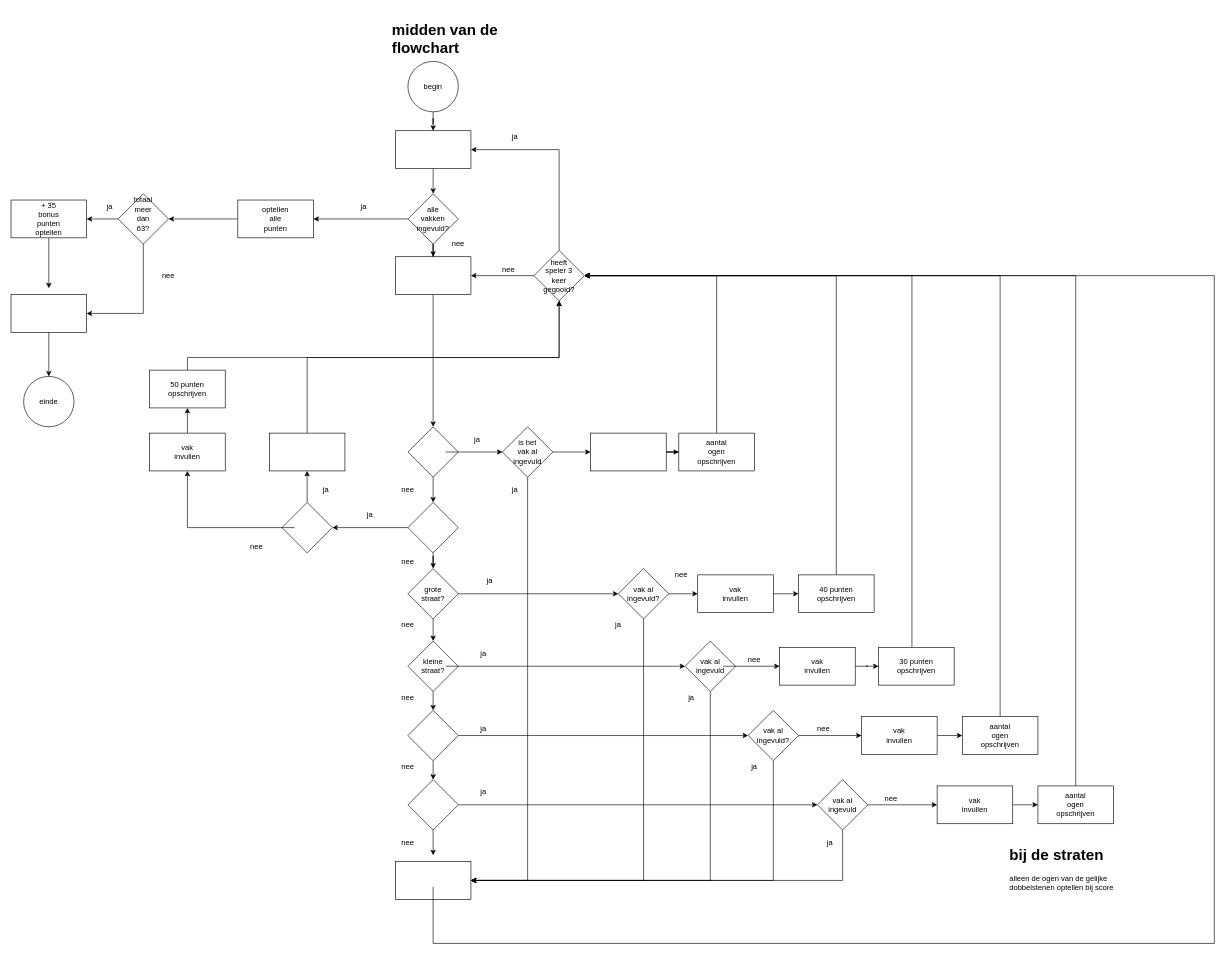
The diagram is 1230 pixels wide and 959 high, and some of its shapes have lost their labels. The box of each missing label's shape, as (x1, y1, x2, y2) in pixels:
3 op rij?: (407, 710, 458, 761)
4 op rij?: (407, 779, 458, 830)
alle ogen van dobbelsteen optellen: (590, 432, 666, 471)
extra honderd punten opschrijven: (269, 432, 345, 471)
is vak al ingevuld?: (281, 502, 332, 553)
laat score zien aan speler: (10, 294, 87, 332)
nieuwe beurt: (395, 130, 471, 169)
speler gooit: (395, 256, 471, 295)
speler schrijft een 0 bij willekeurig vak: (395, 861, 471, 899)
vrije keuze?: (407, 426, 458, 477)
yahtzee?: (407, 502, 458, 553)
